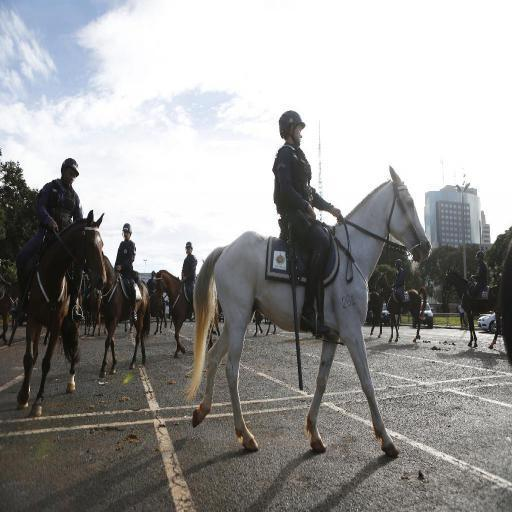horse: (181, 164, 434, 458), (16, 208, 108, 420), (96, 254, 152, 379), (154, 268, 220, 360), (440, 268, 502, 350), (373, 270, 427, 342), (0, 278, 20, 346), (80, 287, 100, 336), (366, 290, 384, 338), (150, 290, 167, 336), (252, 310, 276, 337), (102, 321, 134, 335)
